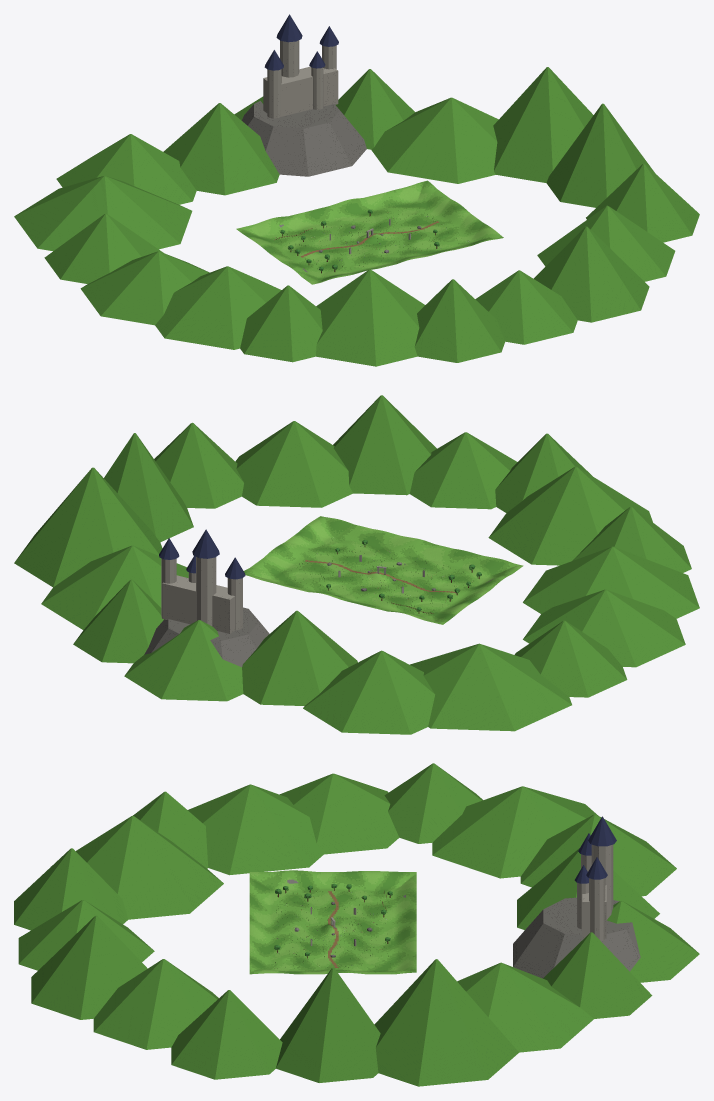
File: meadow.glb
The picture shows the model from 3 angles, top to bottom: view 1: azimuth 30°, elevation 25°; view 2: azimuth 150°, elevation 25°; view 3: azimuth 270°, elevation 25°; orthographic projection. The views are drawn at different scales.
Visible parts, largest first — view 1: meadow_far, ground; view 2: meadow_far, ground; view 3: meadow_far, ground.
Boxes of the visible parts, x1,y1,x2,y2 form: meadow_far: (14,14,699,366); ground: (236,180,503,284); meadow_far: (14,395,699,734); ground: (244,516,523,624); meadow_far: (14,763,699,1086); ground: (249,870,416,974).
Size of the model in its own units: 532 by 114 by 510.
1 material, 1 textured.
